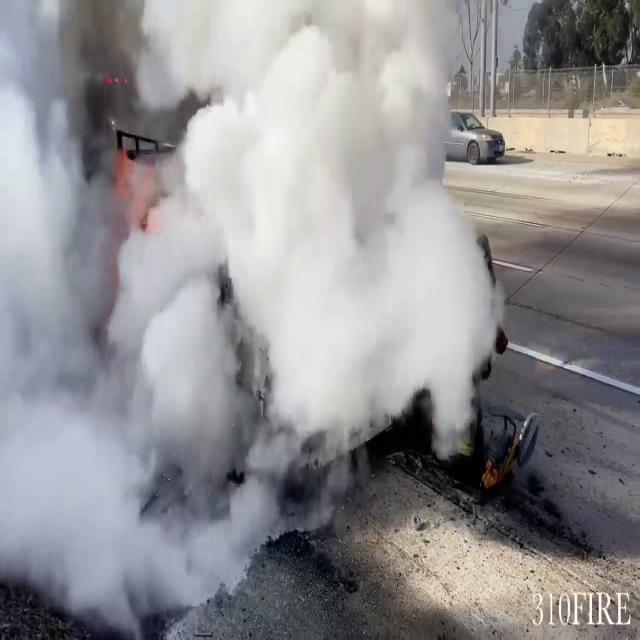Smoke: (0, 0, 514, 617)
